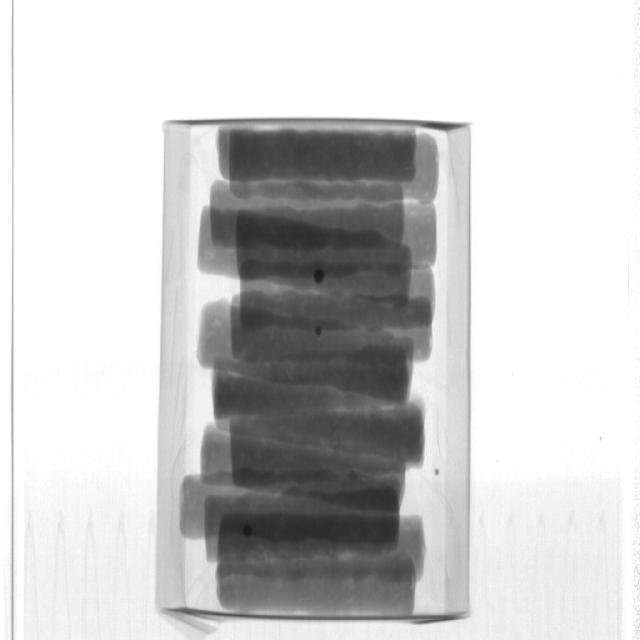ym: (315, 269, 326, 285), (245, 524, 254, 538), (316, 327, 324, 335), (435, 468, 441, 474)
